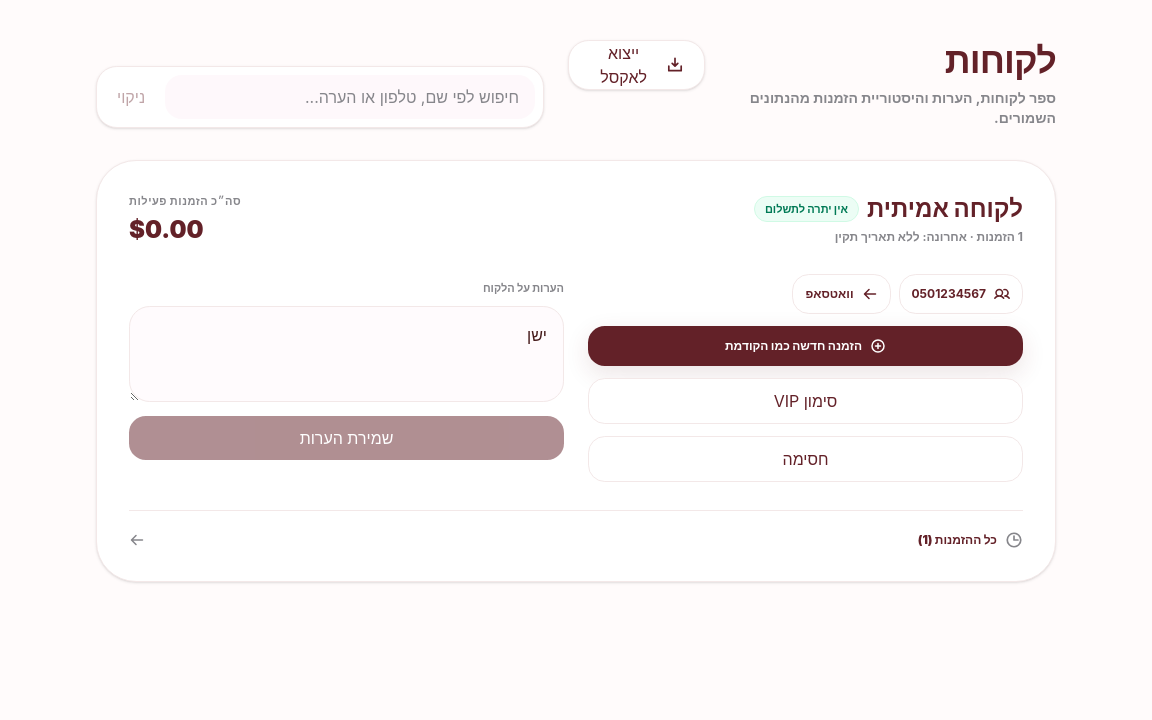
Test: CustomersScreen › persists notes only after explicit save and includes the confirmed note in search
Replace the text in the text box labelled "הערות על הלקוח" with "רגישות לשומשום" at (346, 354), box left=129, top=306, right=564, bottom=402
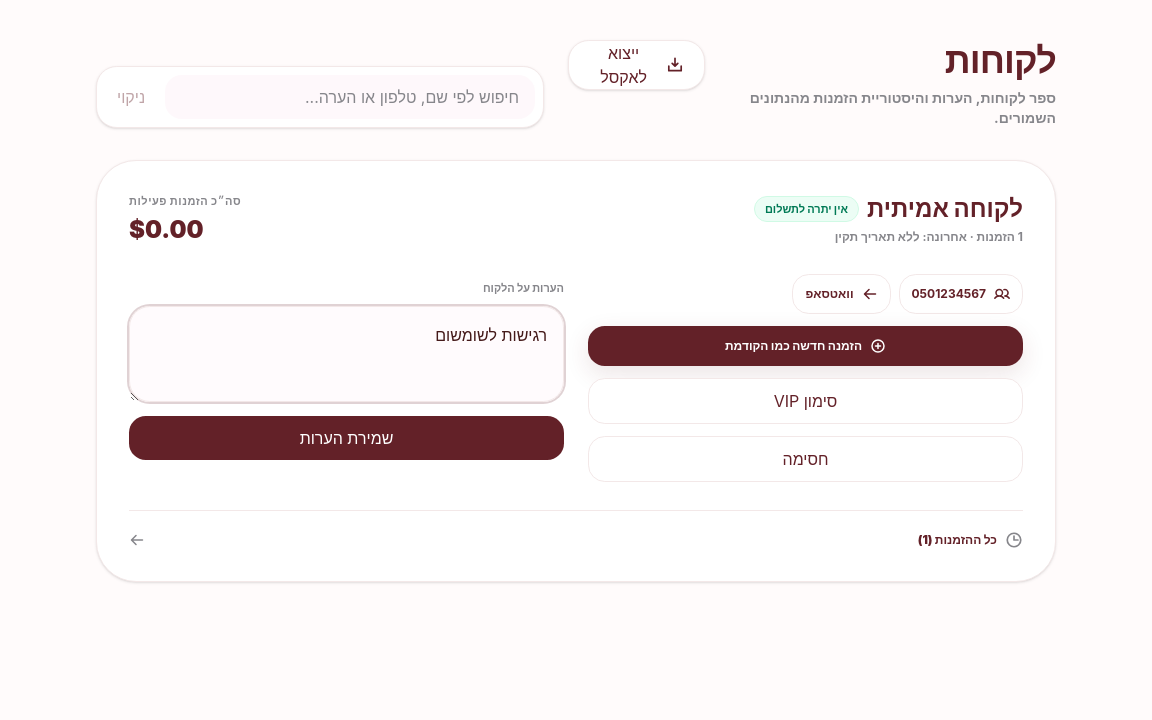
Click the button with aria-label "שמירת הערות על לקוחה אמיתית".
click(346, 438)  # box left=129, top=416, right=564, bottom=460
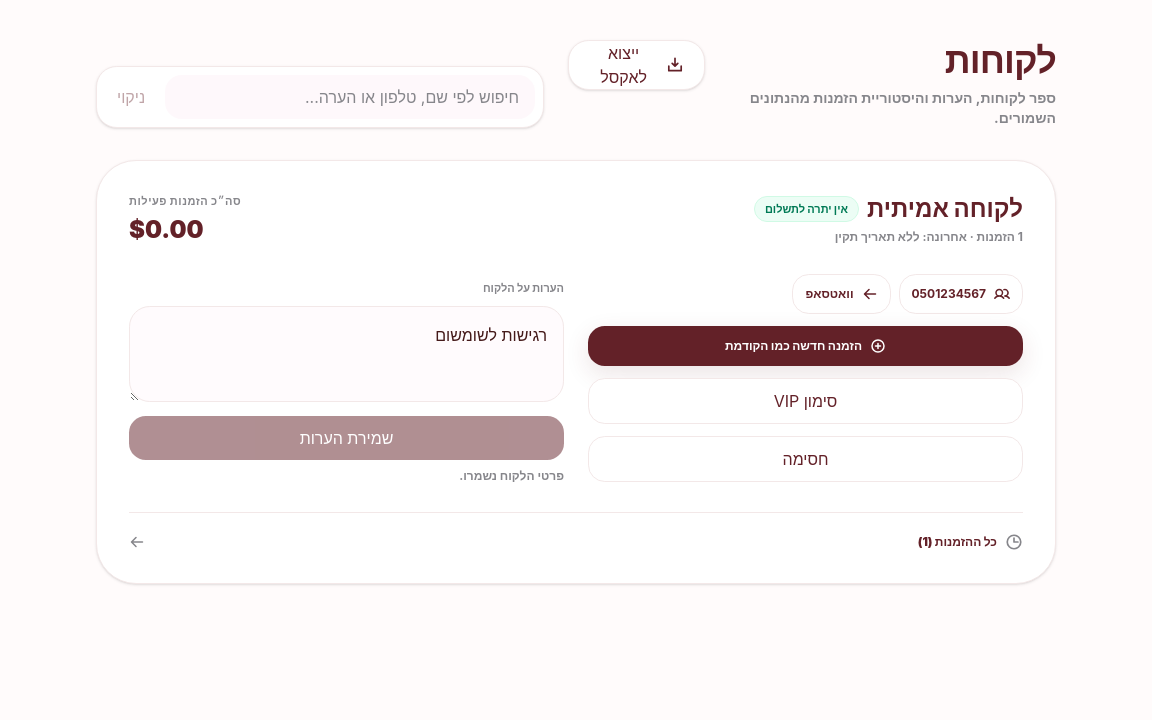
Check: the text "פרטי הלקוח נשמרו." is shown, box left=459, top=468, right=564, bottom=482
Type "שומשום" into the search field named "חיפוש לקוחות".
click(350, 97); type("שומשום")  # box left=165, top=75, right=535, bottom=119
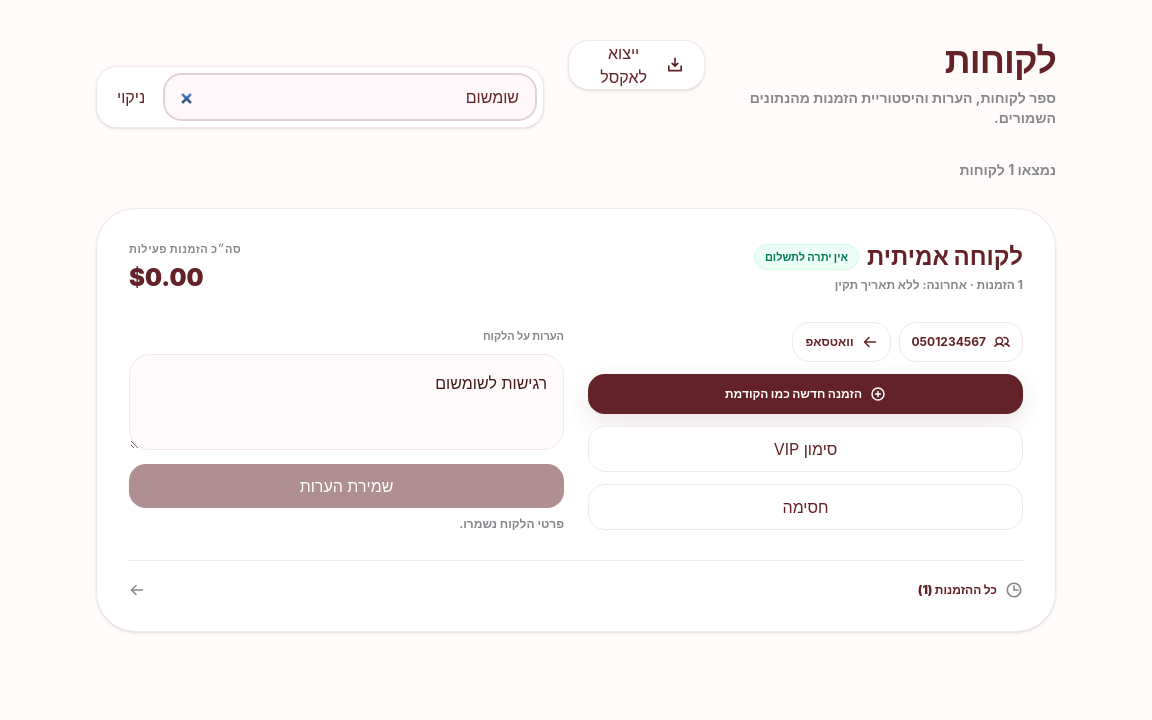
Check: the heading "לקוחה אמיתית" is shown, box left=867, top=241, right=1023, bottom=273
Check: the text "נמצאו 1 לקוחות" is shown, box left=960, top=161, right=1056, bottom=178
